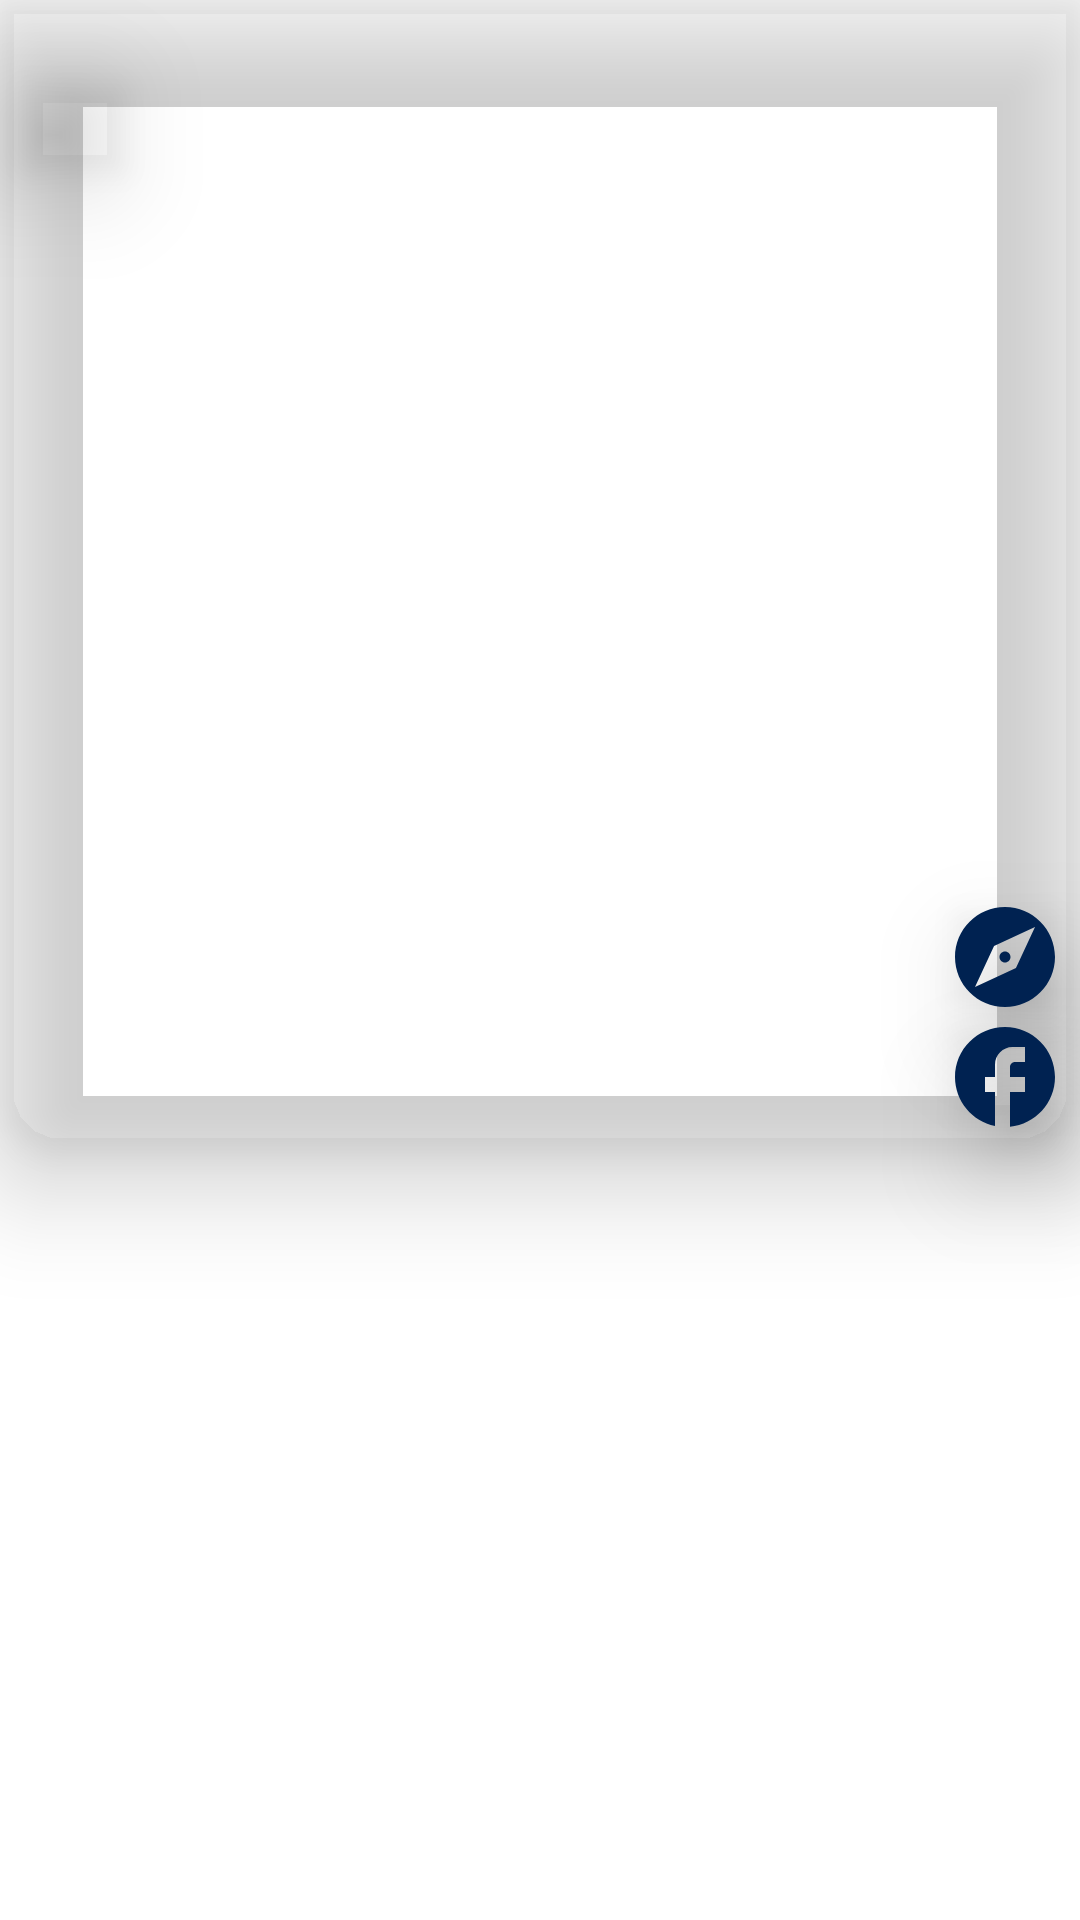

Icon click points for this 1080px x 1920px phone screenshot, format point (x, y):
position: point (1005, 957)
